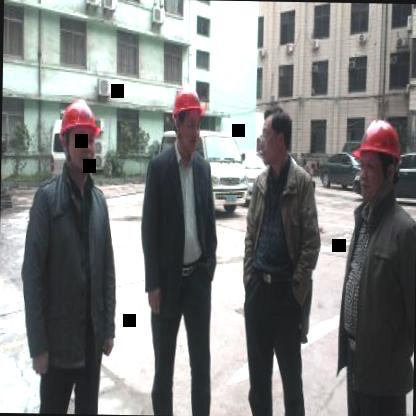helmet: (348, 114, 410, 202), (52, 93, 111, 177), (166, 74, 210, 156)
